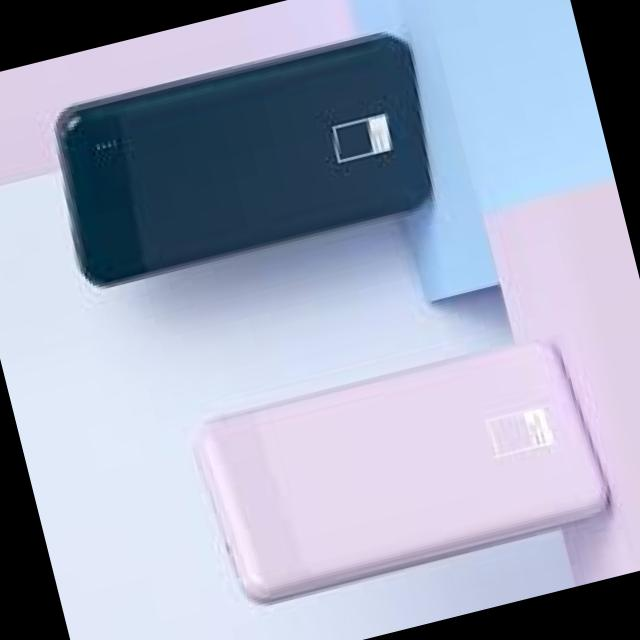power_bank: (190, 326, 614, 607), (35, 13, 452, 297)
